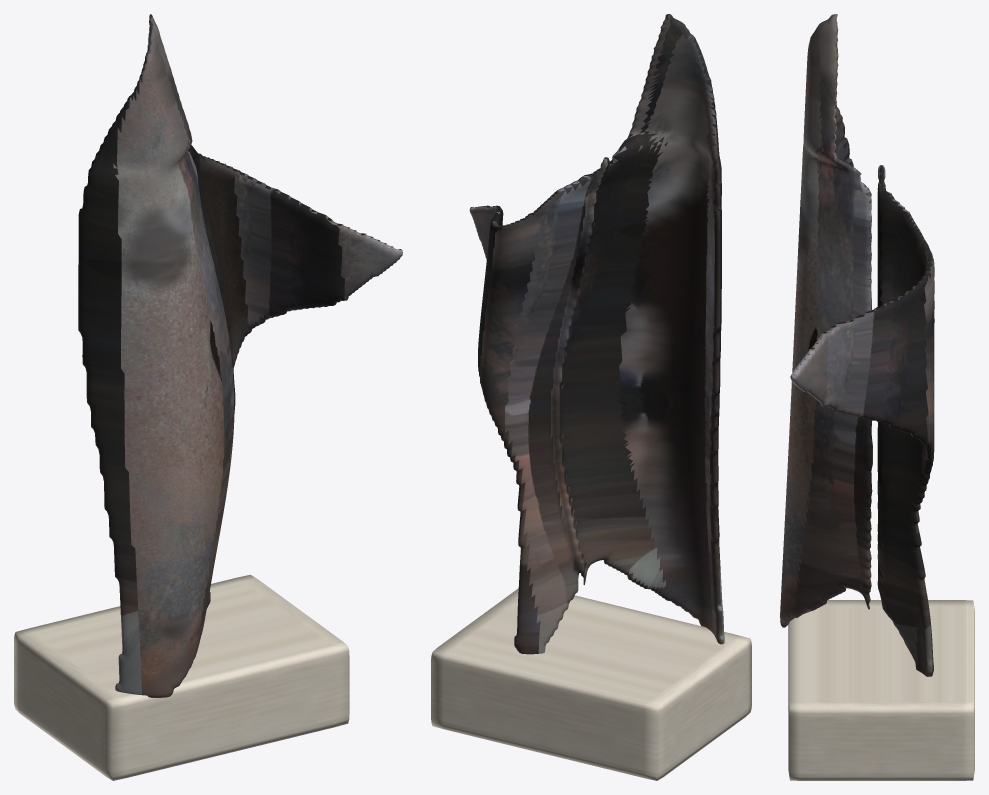
File: escultura-esc-044.glb
3 renders of one model, left to right at view 1: azimuth 30°, elevation 25°; view 2: azimuth 150°, elevation 25°; view 3: azimuth 270°, elevation 25°, orthographic. The views are drawn at different scales.
Visible parts, largest first — view 1: world; view 2: world; view 3: world.
Boxes of the visible parts, x1,y1,x2,y2 form: world: (14,14,402,780); world: (431,14,751,780); world: (780,14,974,780).
Bounding box in the file's own units: 0.1997 × 0.4775 × 0.1227.
Materials: 1 (1 with a texture image).
